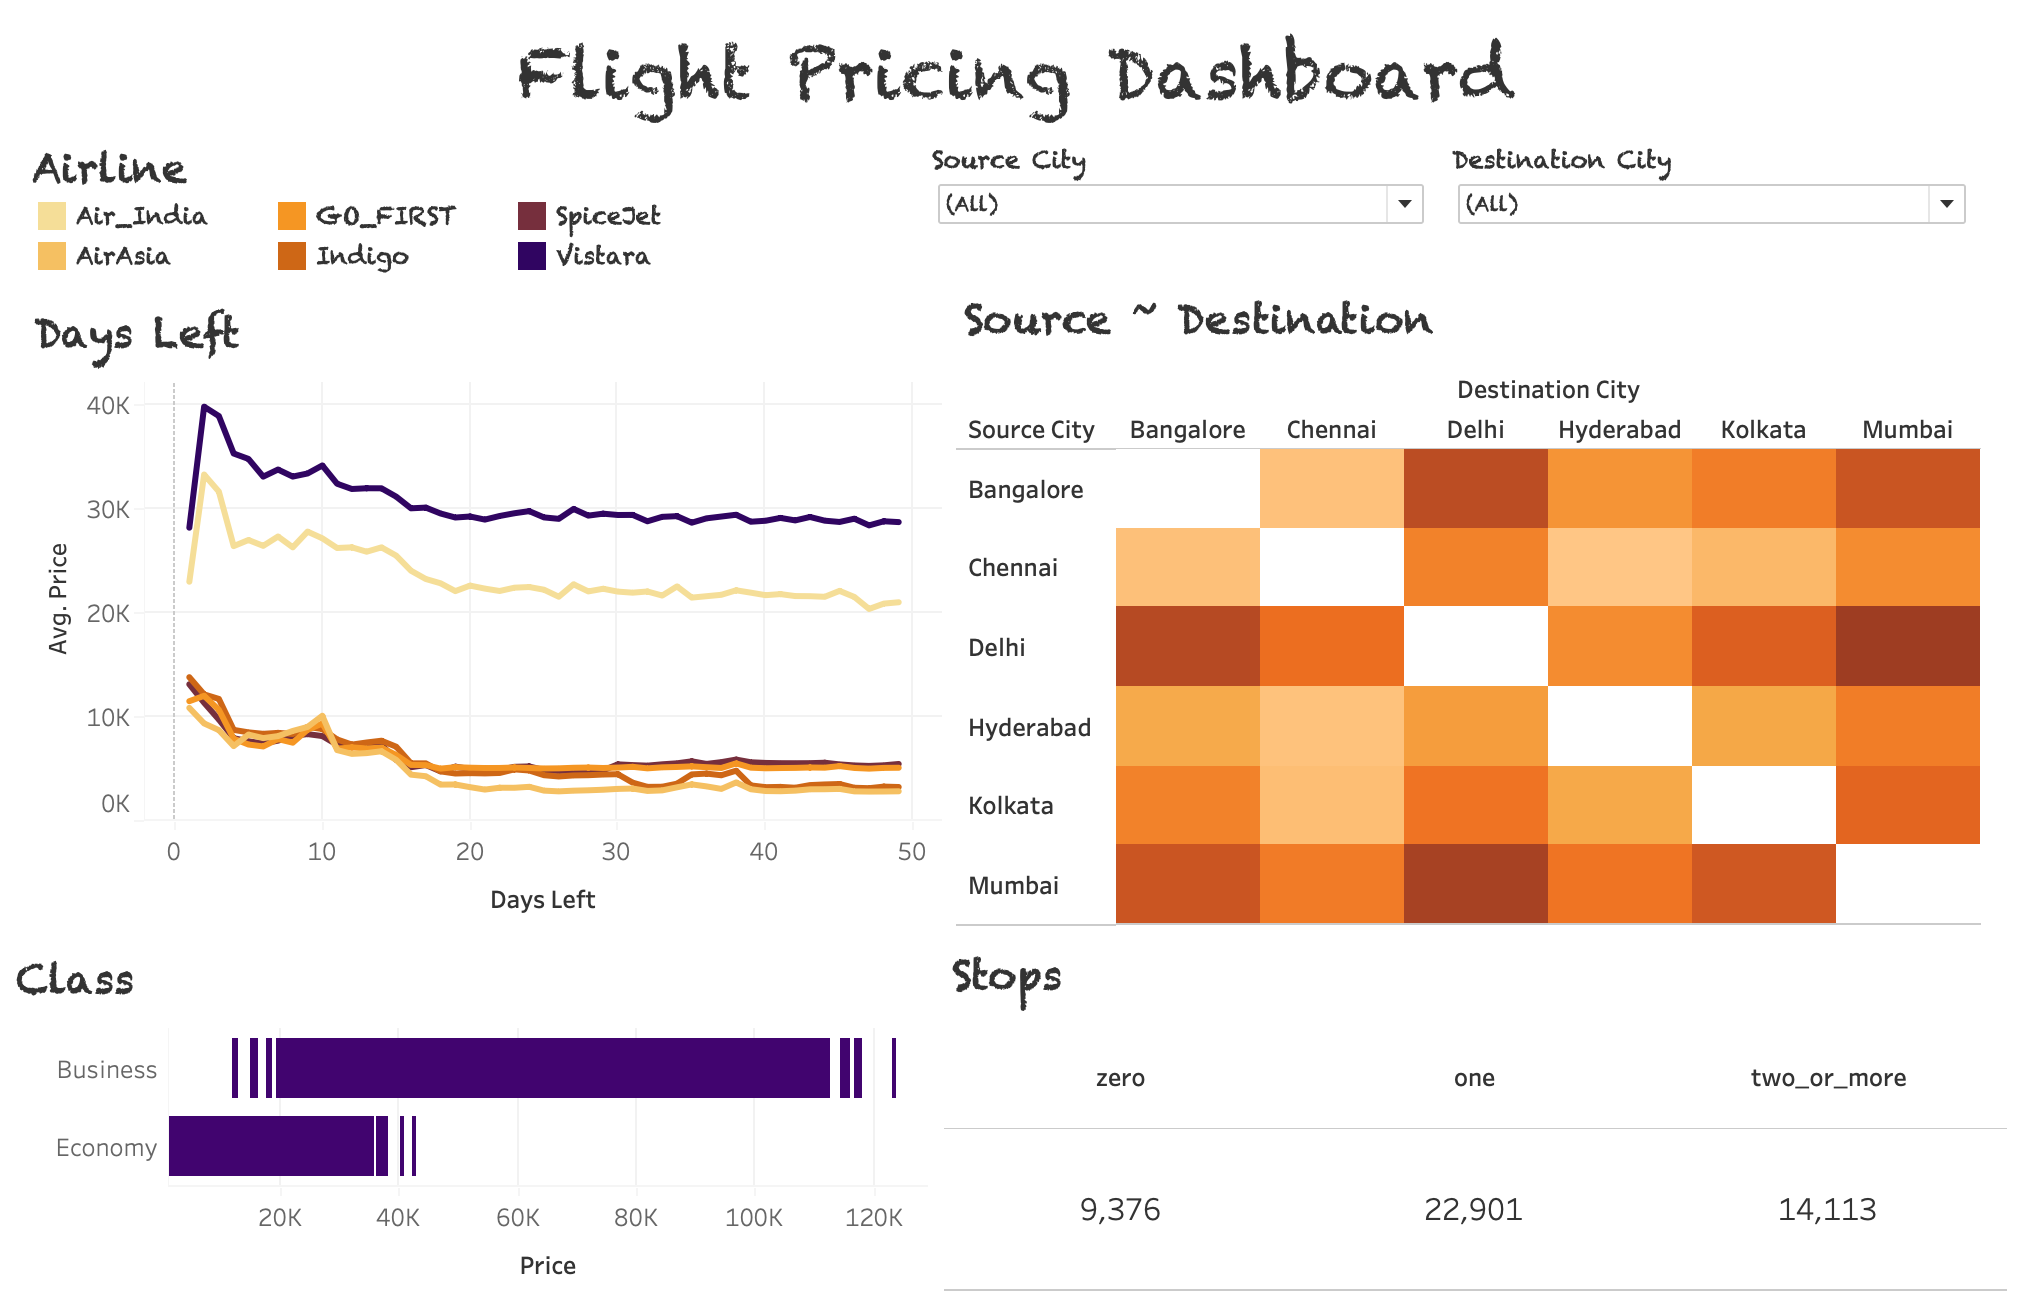

Layout of this report page (visuals, bound fields, positions):
{"tool":"tableau","page":{"name":"Flight Pricing Model","canvas":[1020,660],"ordinal":0},"visuals":[{"type":"title","box":[8,8,1004,67]},{"type":"legend","title":"Price vs Days Left","param":"[federated.1iy3xh01vcrvaz1gd3dbb0gqmxag].[none:airline:nk]","box":[18,75,444,74]},{"type":"filter","title":"Source vs Destination","param":"[federated.1iy3xh01vcrvaz1gd3dbb0gqmxag].[none:source_city:nk]","box":[468,76,249,63]},{"type":"filter","title":"Source vs Destination","param":"[federated.1iy3xh01vcrvaz1gd3dbb0gqmxag].[none:destination_city:nk]","box":[728,76,260,63]},{"type":"worksheet","title":"Source vs Destination","mark":"Automatic","rows":["source_city"],"cols":["destination_city"],"box":[480,147,513,320]},{"type":"worksheet","title":"Price vs Days Left","mark":"Line","rows":["price"],"cols":["days_left"],"box":[15,154,458,315]},{"type":"worksheet","title":"Price vs Stops","mark":"Automatic","cols":["stops"],"box":[474,475,532,175]},{"type":"worksheet","title":"Price vs Class","mark":"Automatic","rows":["class"],"cols":["price"],"box":[6,477,460,175]}]}

Visuals, with their boxes in screenshot pixels (x1, y1, x2, y2), scaled from the page's 1020x660 canvas onto the 2030x1308 screenshot:
title: (16,16,2014,149)
"Price vs Days Left" legend: (36,149,919,295)
"Source vs Destination" filter: (931,151,1427,275)
"Source vs Destination" filter: (1449,151,1966,275)
"Source vs Destination" worksheet: (955,291,1976,926)
"Price vs Days Left" worksheet (Line marks): (30,305,941,929)
"Price vs Stops" worksheet: (943,941,2002,1288)
"Price vs Class" worksheet: (12,945,927,1292)
